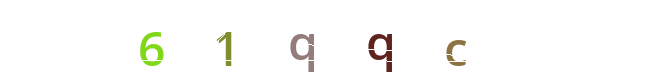1: (276, 0, 356, 80)
6: (111, 0, 191, 80)
C: (342, 0, 422, 80)
Q: (288, 0, 368, 80), (299, 0, 379, 80)
